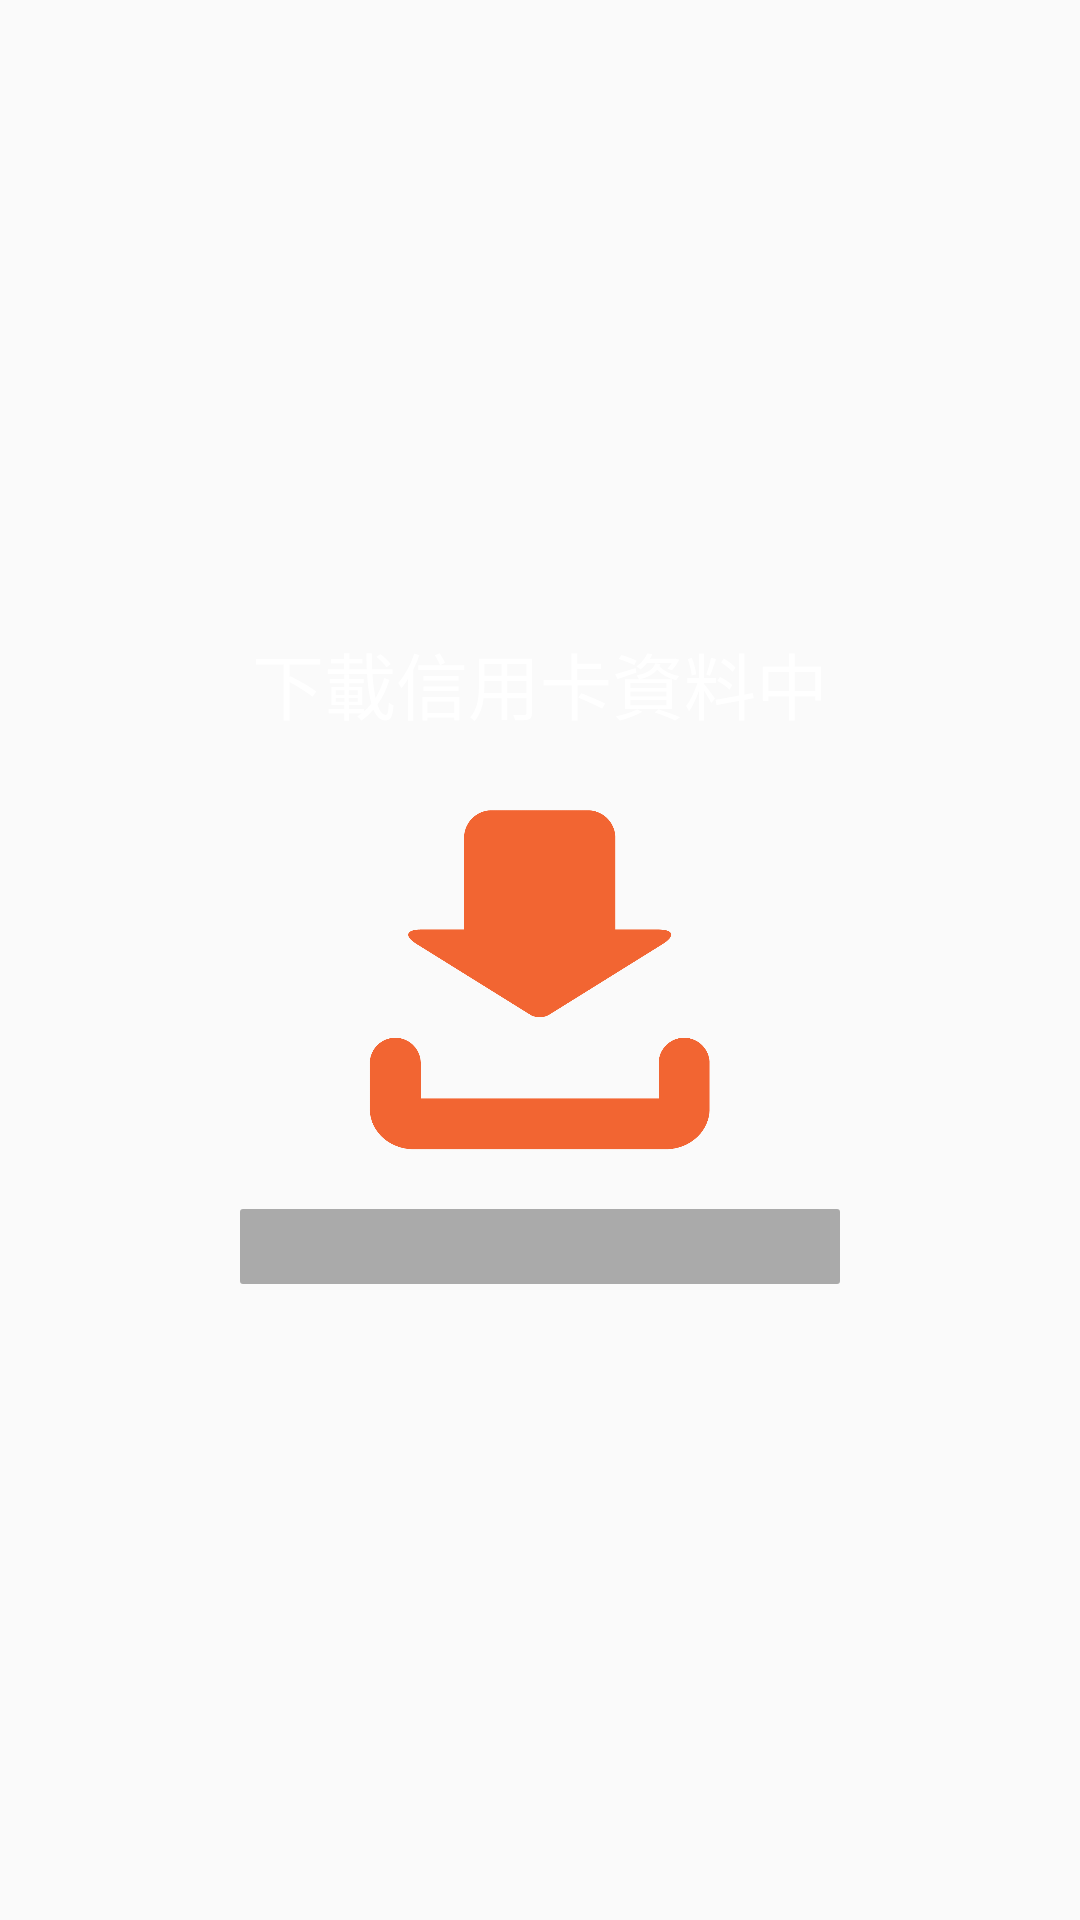

Where to tap for icons on this 1080w x 1920h app screen, as (x,y):
download animation: (540,979)
